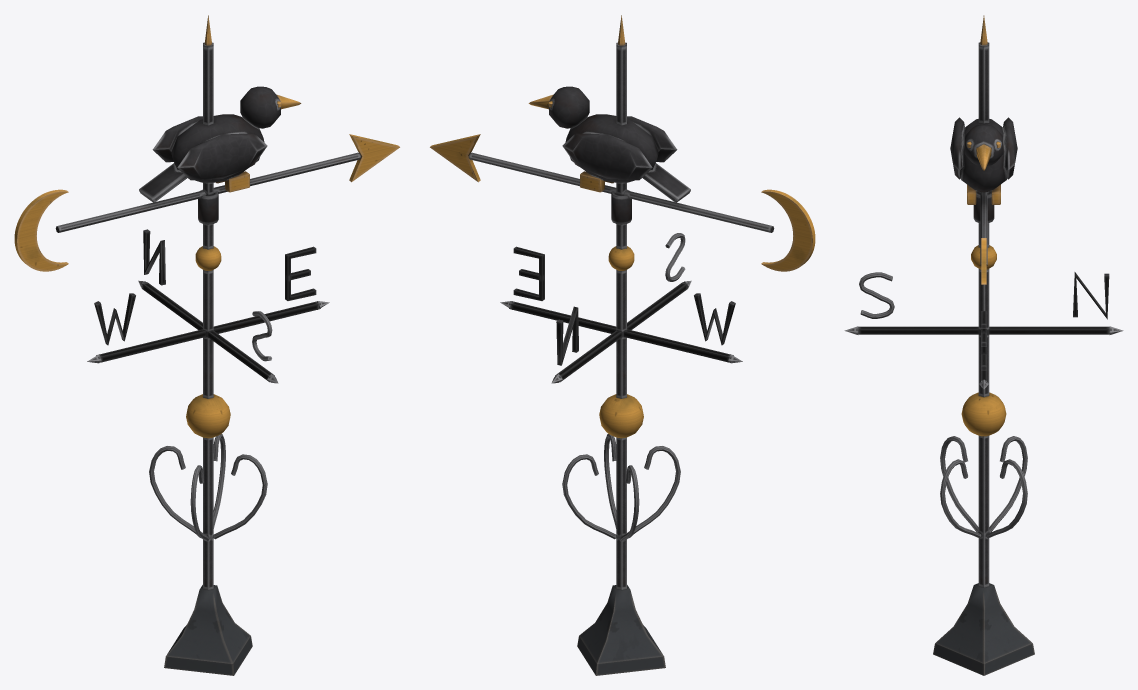
The model's file is Weathervane.fbx.
3 views of the same model, side by side, from view 1: azimuth 30°, elevation 25°; view 2: azimuth 150°, elevation 25°; view 3: azimuth 270°, elevation 25° (orthographic).
Parts seen in each view (by area): view 1: Weathervane; view 2: Weathervane; view 3: Weathervane.
Part boxes in pixels (left/top/right/bottom): Weathervane: left=14, top=15, right=399, bottom=675; Weathervane: left=430, top=15, right=815, bottom=675; Weathervane: left=844, top=15, right=1123, bottom=675.
Bounding box in the file's own units: 432 × 693 × 274.
